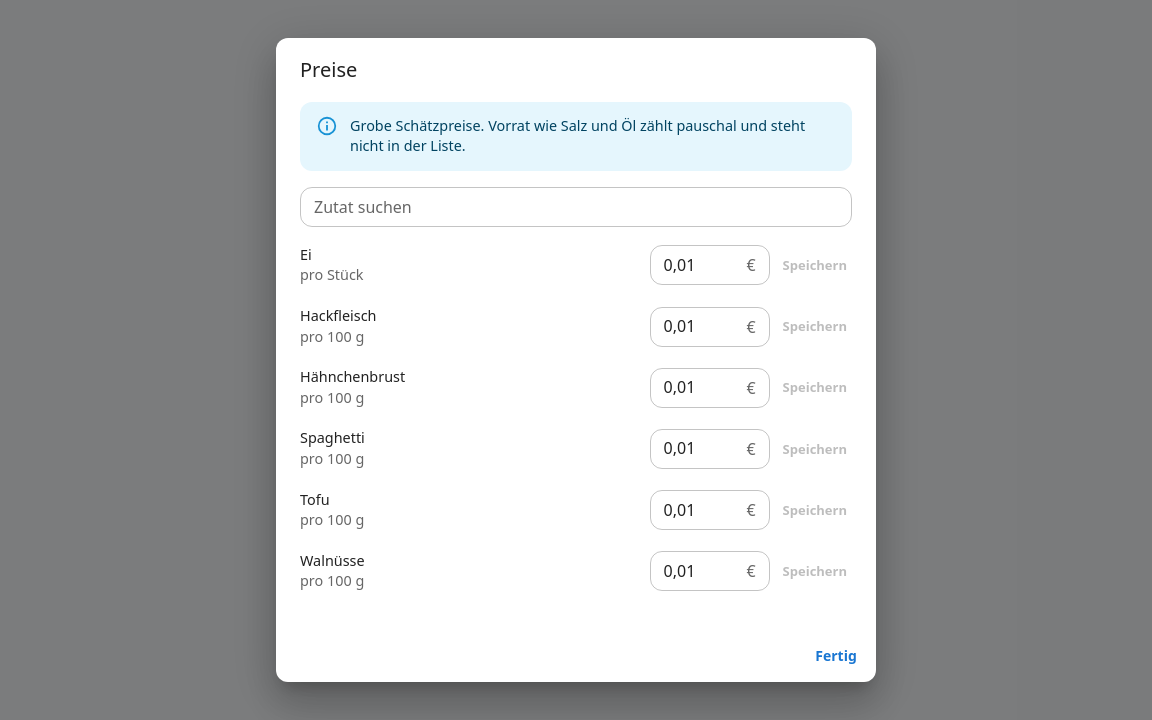
Test: IngredientPricesDialog (FOOD-013) › lists prices per unit without pantry items and saves a changed price
Expected: the text "Spaghetti" is shown, 300,428 -> 365,447
Expected: the text "pro 100 g" below "Hackfleisch" is shown, 300,327 -> 364,346
Clear the field named "Preis Spaghetti" at [694, 449], box 650,429 -> 738,469
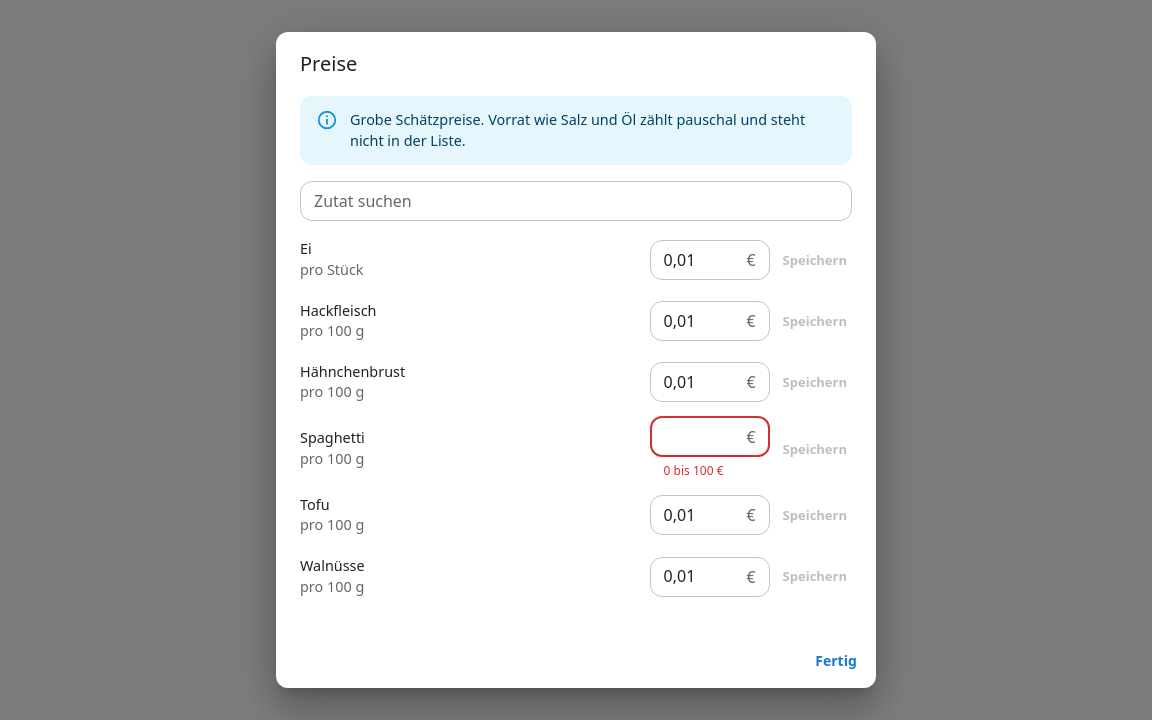
Type "0,35" into the field named "Preis Spaghetti" at [694, 437], box 650,417 -> 738,457
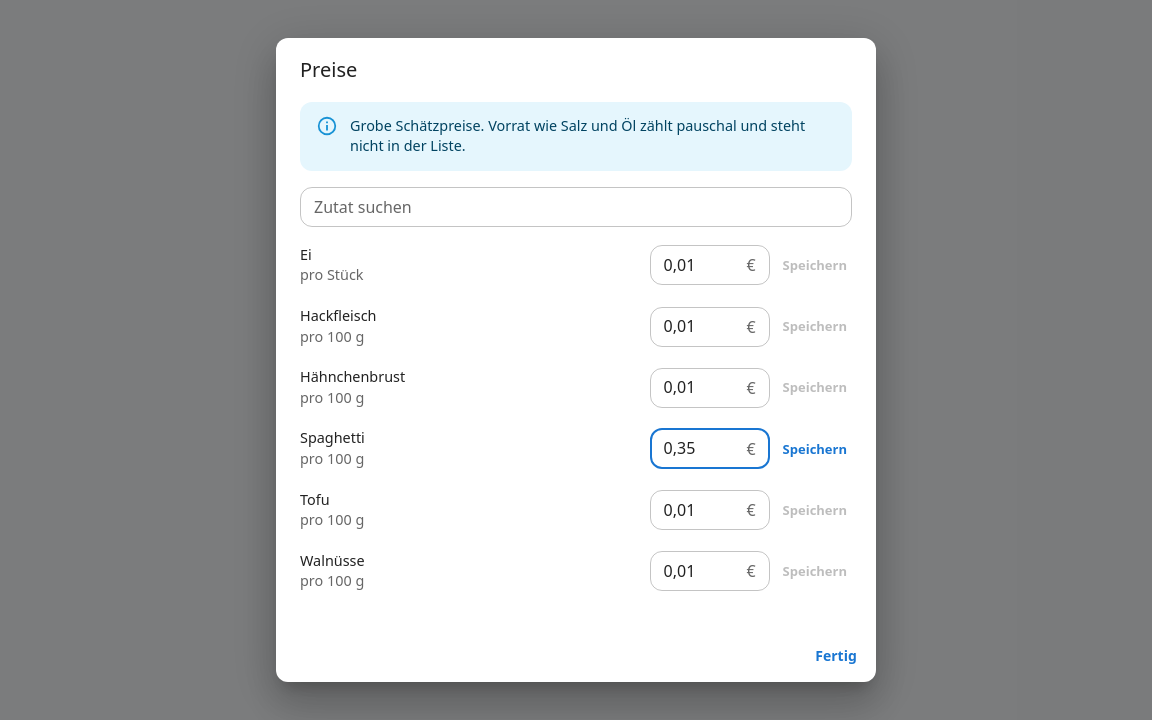
Click the button with aria-label "Preis Spaghetti speichern" at [815, 449], box 778,434 -> 852,464
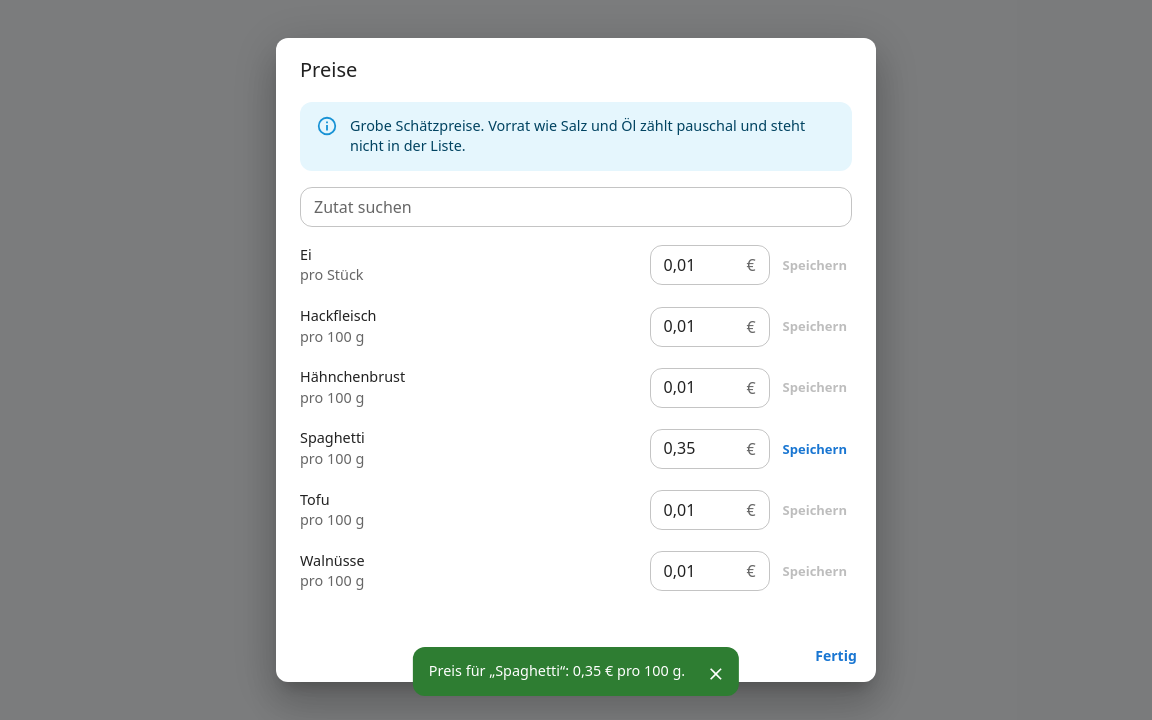
Now the text "Preis für „Spaghetti“: 0,35 € pro 100 g." is shown, box 429,661 -> 685,680
